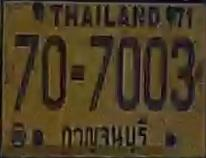0: (41, 35, 66, 108), (143, 36, 167, 110), (116, 36, 140, 109)
3: (170, 36, 196, 110)
7: (14, 33, 39, 112), (89, 35, 114, 110)
KRI: (58, 115, 151, 156)
